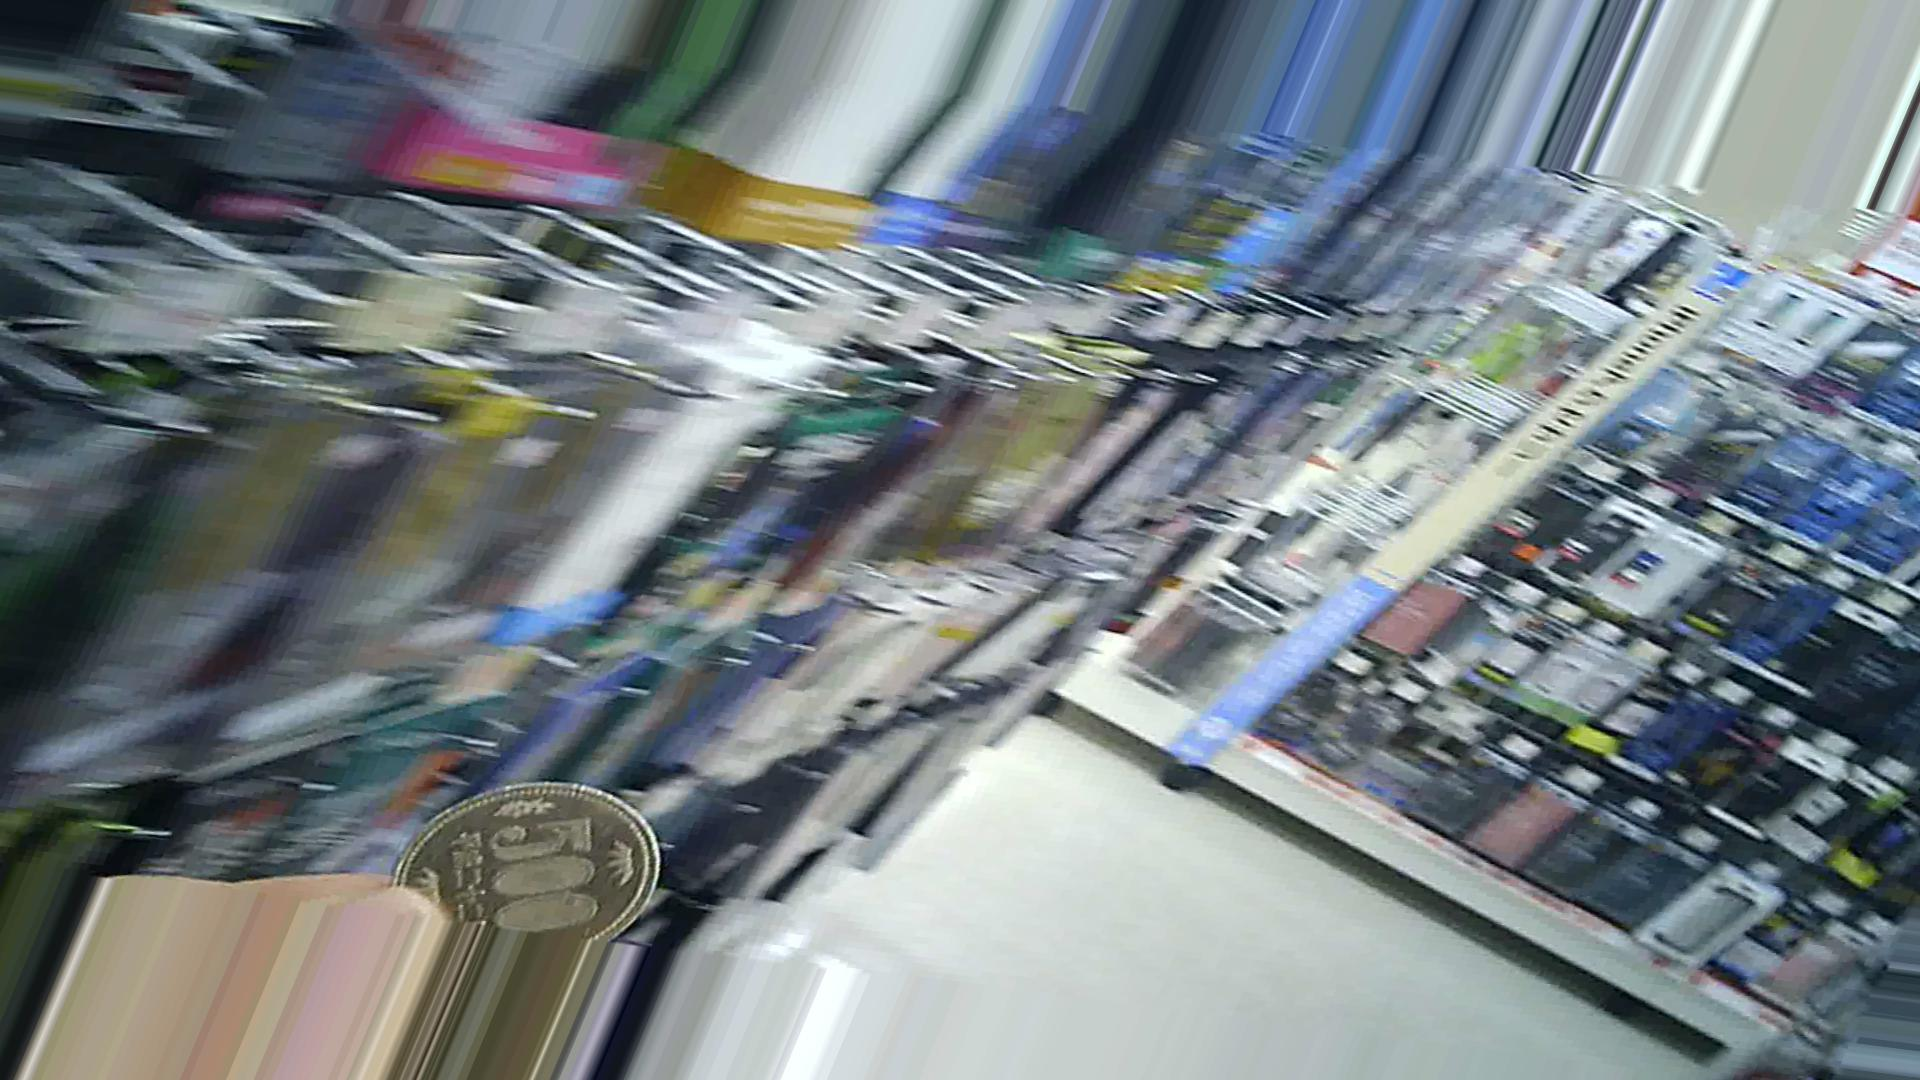500 Yen: (382, 775, 655, 948)
